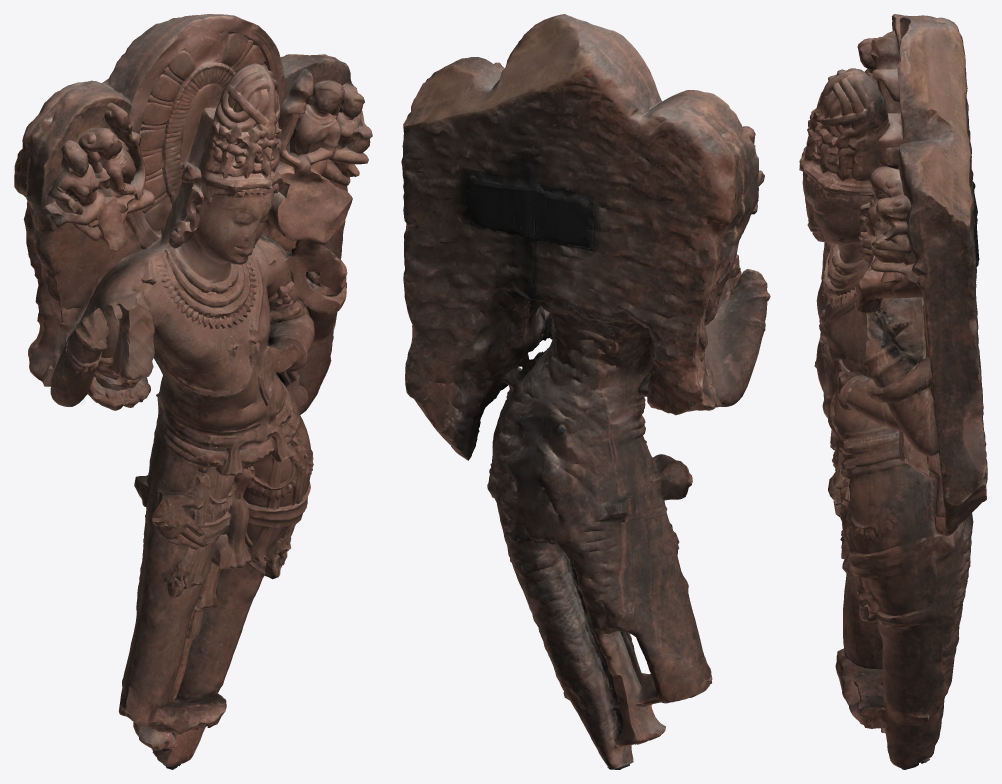
The model's file is shiva-10th-hi.glb.
3 views of the same model, side by side, from view 1: azimuth 30°, elevation 25°; view 2: azimuth 150°, elevation 25°; view 3: azimuth 270°, elevation 25° (orthographic). The views are drawn at different scales.
Visible parts, largest first — view 1: Object_2; view 2: Object_2; view 3: Object_2.
Boxes of the visible parts, x1,y1,x2,y2 form: Object_2: [14, 14, 372, 769]; Object_2: [401, 14, 770, 769]; Object_2: [799, 14, 987, 769].
Bounding box in the file's own units: 0.568 × 1.23 × 0.277.
1 material, 1 textured.
